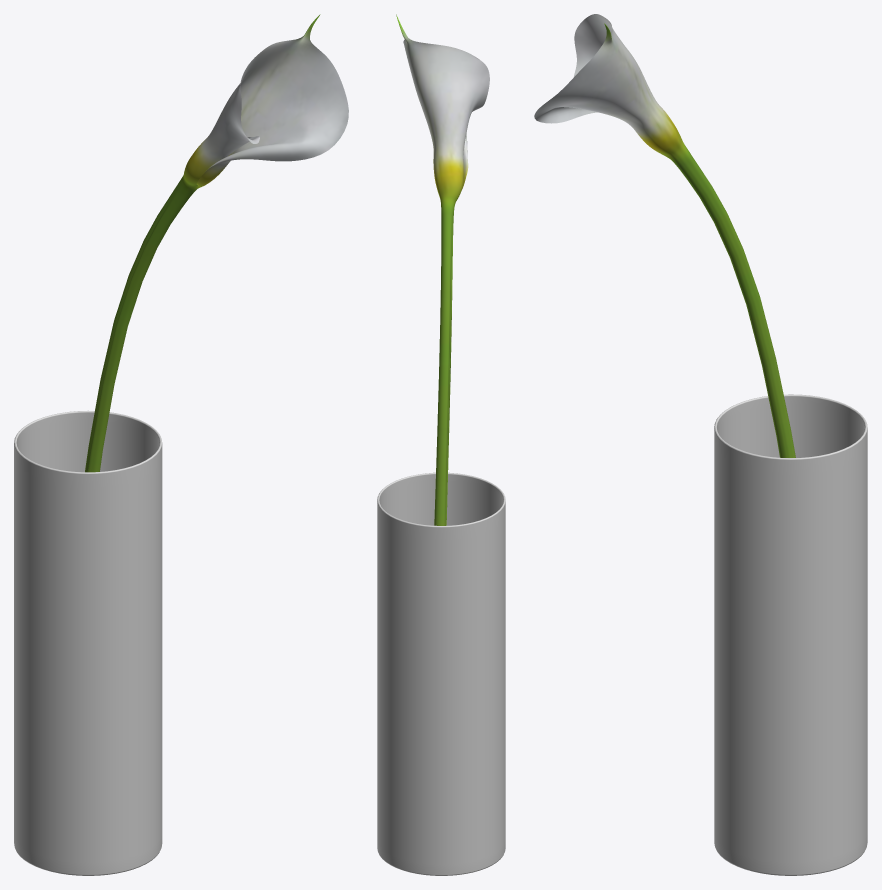
File: kalla.gltf
3 views of the same model, side by side, from view 1: azimuth 30°, elevation 25°; view 2: azimuth 150°, elevation 25°; view 3: azimuth 270°, elevation 25° (orthographic). The views are drawn at different scales.
Parts seen in each view (by area): view 1: b_vase_2_170 2 (×2), callas_05; view 2: b_vase_2_170 2 (×2), callas_05; view 3: b_vase_2_170 2, callas_05.
Part boxes in pixels (x1,y1,x2,y2): b_vase_2_170 2 (×2): (14,411,162,875); callas_05: (85,14,348,472); b_vase_2_170 2 (×2): (377,472,505,875); callas_05: (396,14,489,525); b_vase_2_170 2: (714,394,867,875); callas_05: (534,14,795,457).
Bounding box in the file's own units: 0.0714 × 0.28 × 0.0947.
3 materials, 1 textured.
